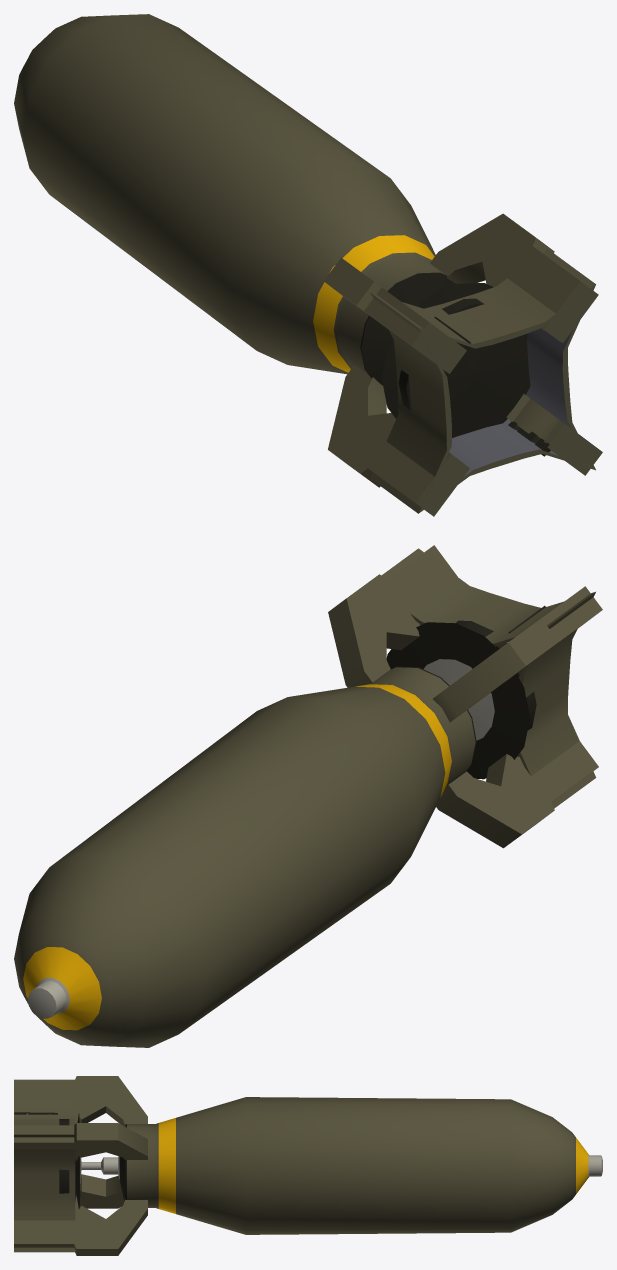
File: anm64.glb
3 renders of one model, top to bottom at view 1: azimuth 30°, elevation 25°; view 2: azimuth 150°, elevation 25°; view 3: azimuth 270°, elevation 25°, orthographic. The views are drawn at different scales.
Visible parts, largest first — view 1: anm64; view 2: anm64; view 3: anm64.
Boxes of the visible parts, <box> form: anm64: <box>14,14,602,516</box>; anm64: <box>14,545,602,1047</box>; anm64: <box>14,1076,602,1255</box>.
Bounding box in the file's own units: 0.3825 × 0.3825 × 1.53.
